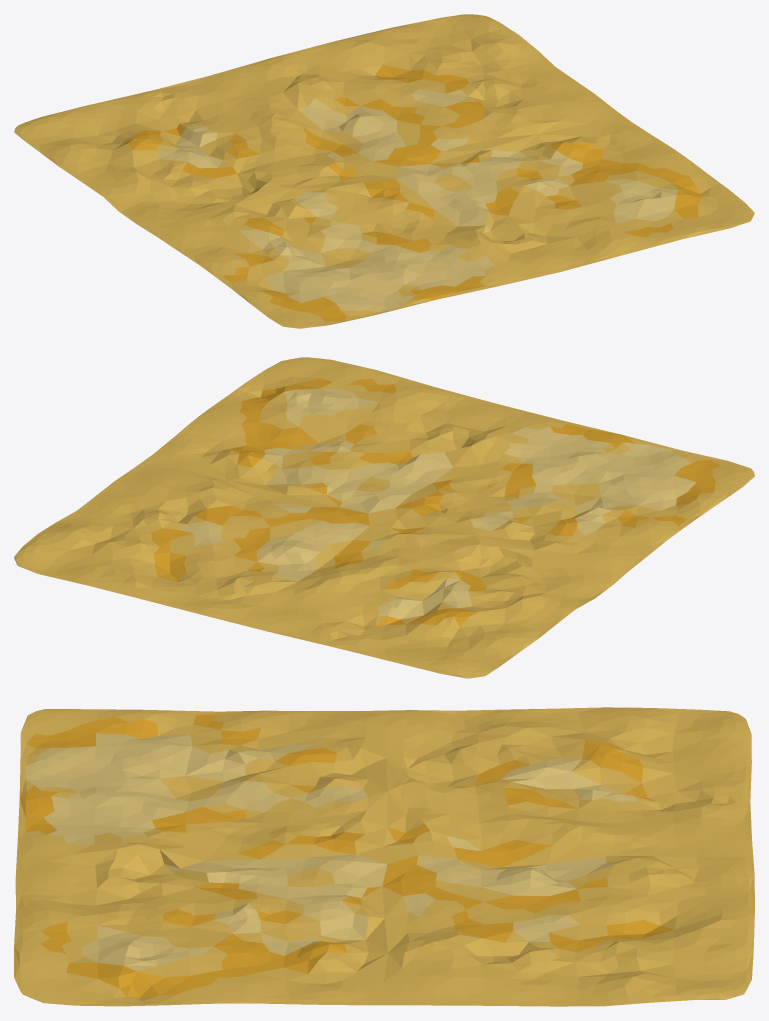
The model's file is mapka2.fbx.
3 renders of one model, top to bottom at view 1: azimuth 30°, elevation 25°; view 2: azimuth 150°, elevation 25°; view 3: azimuth 270°, elevation 25°, orthographic. The views are drawn at different scales.
Parts seen in each view (by area): view 1: Kula ico; view 2: Kula ico; view 3: Kula ico.
Part boxes in pixels (x1,y1,x2,y2): Kula ico: [14, 14, 754, 328]; Kula ico: [14, 357, 754, 678]; Kula ico: [14, 707, 754, 1006].
Bounding box in the file's own units: 1466 × 44.71 × 1540.
